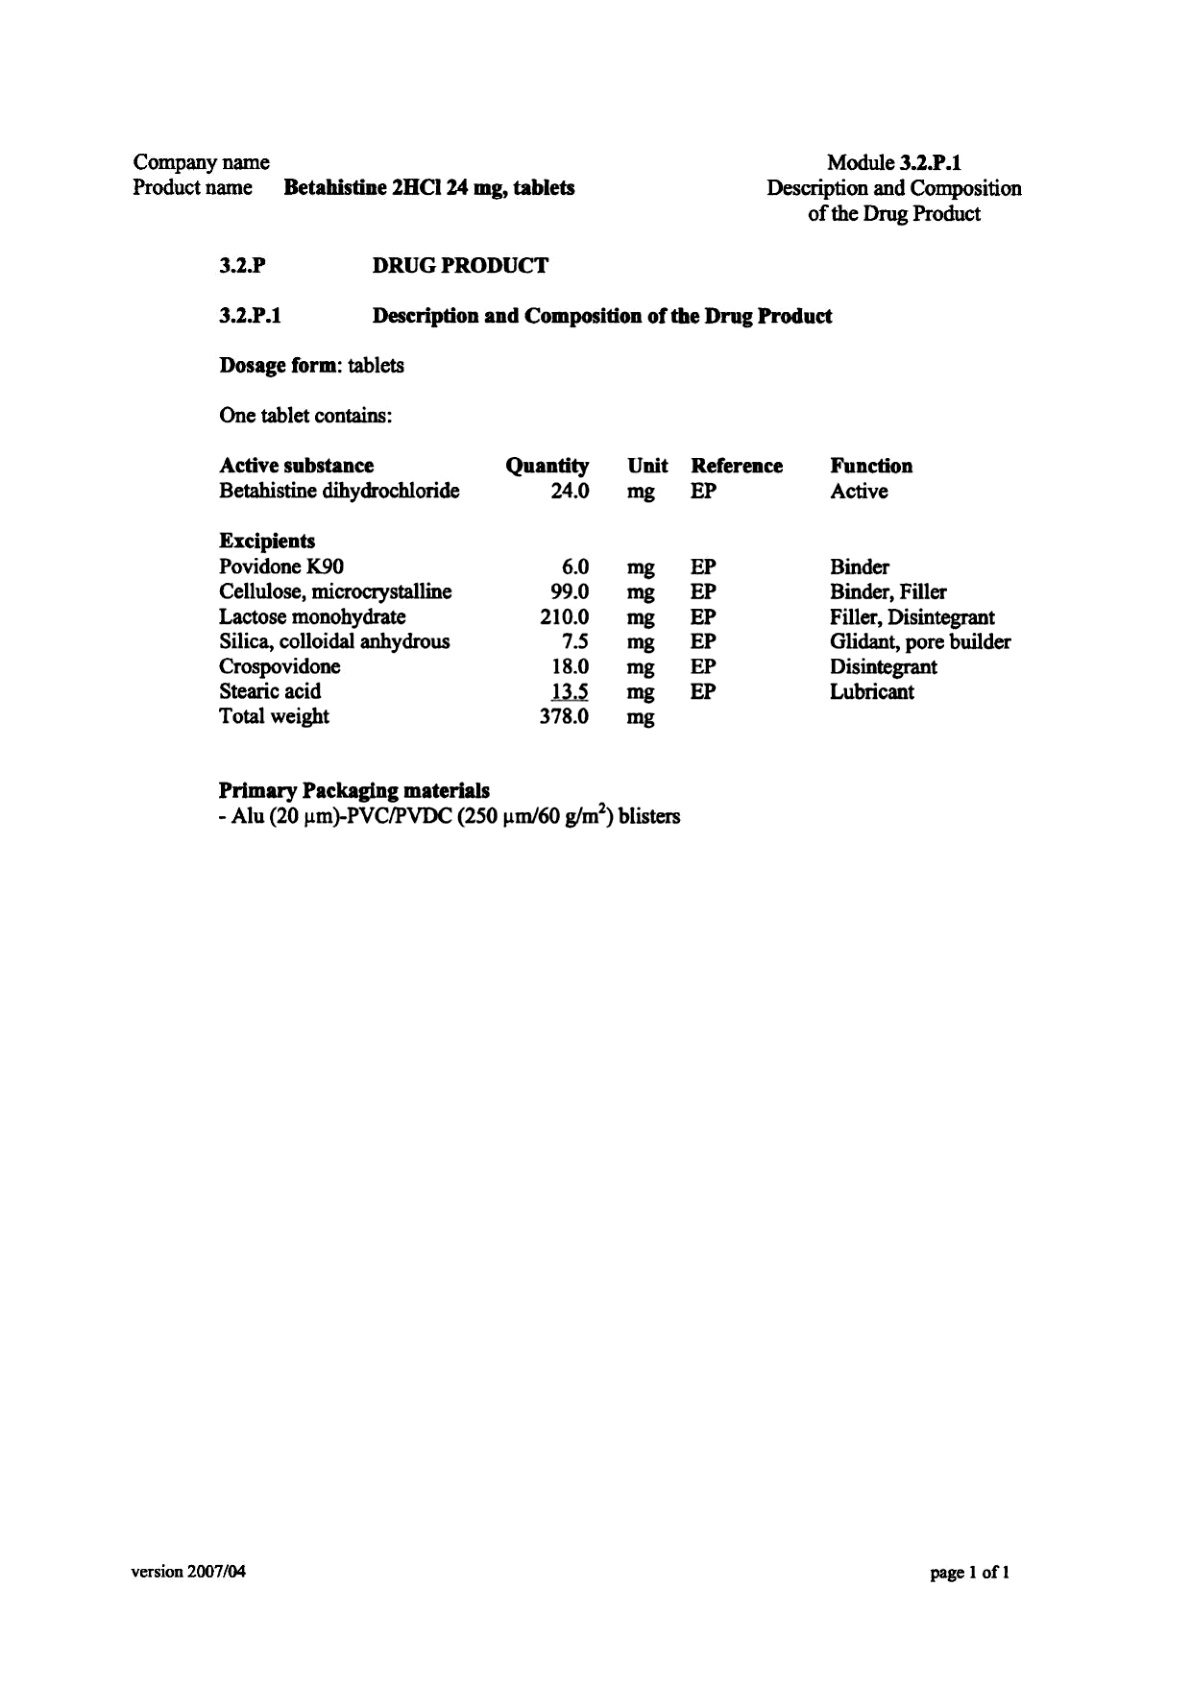nolines: (215, 455, 1014, 732)
